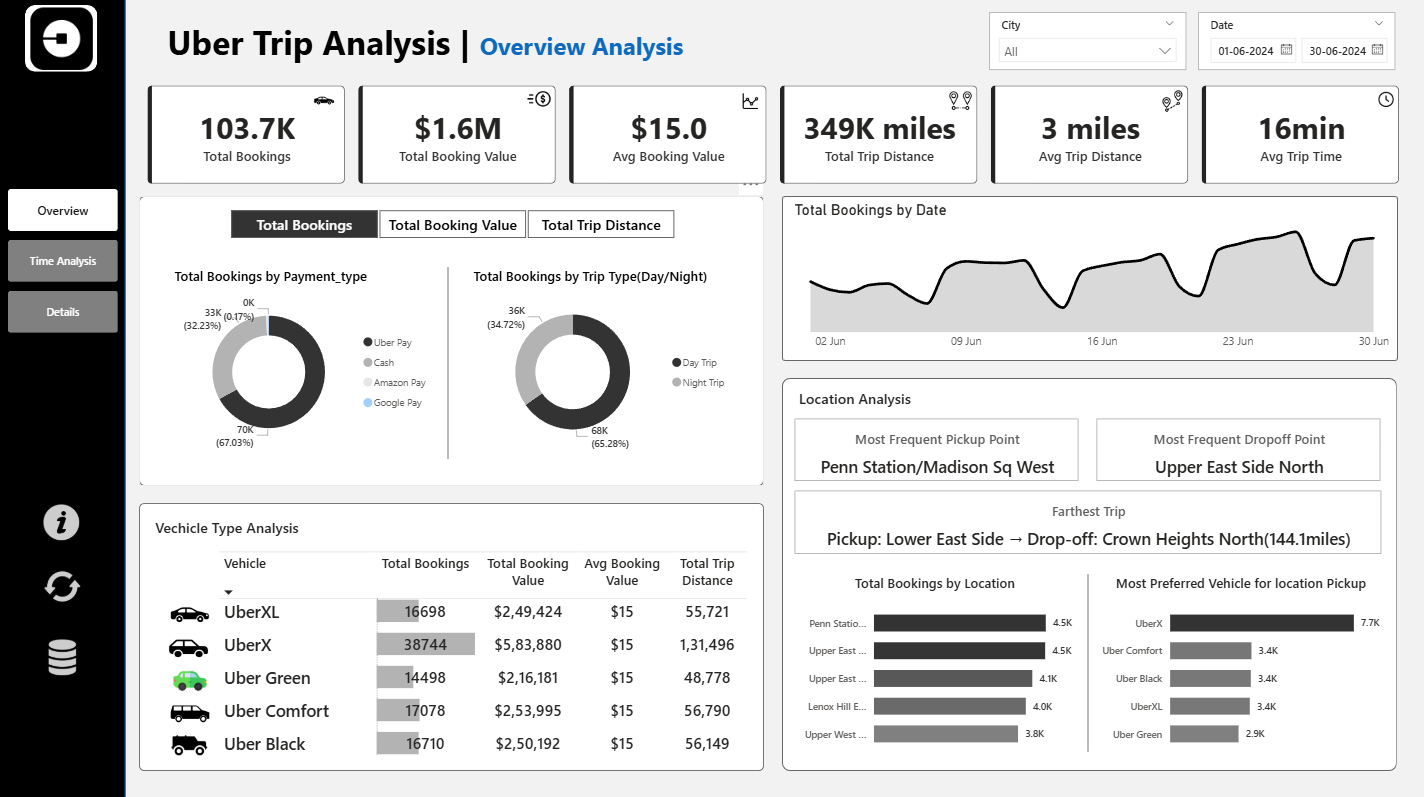

Layout of this report page (visuals, bound fields, positions):
{"tool":"powerbi","page":{"name":"Overview ","canvas":[1600,900],"ordinal":0},"visuals":[{"type":"shape","box":[0,0,142.7,900.4],"z":0},{"type":"shape","box":[157.8,221.6,699.6,324.6],"z":2000},{"type":"textbox","box":[184.7,19,596.6,73.9],"z":3000},{"type":"cardVisual","fields":{"Data":["Calculation Table.Total Bookings","Calculation Table.Total Booking Amount","Calculation Table.Avg Booking Amount","Calculation Table.Total Trip Distance","Calculation Table.Avg Trip Distance","Calculation Table.Avg Trip Time"]},"box":[162,93,1415,120],"z":4000},{"type":"image","box":[587.2,92.4,36.5,40.1],"z":5000},{"type":"shape","box":[30.6,7.9,81,74.7],"z":5250,"group":"g1"},{"type":"image","box":[30,6,82,80],"z":5500,"group":"g1"},{"type":"image","box":[1059,97.3,36.5,35.3],"z":6000},{"type":"image","box":[1298.5,97.3,34,35.3],"z":7000},{"type":"image","box":[1540.4,93.6,26.7,38.9],"z":8000},{"type":"image","box":[826.7,97.3,30.4,35.3],"z":9000},{"type":"image","box":[342.9,97.3,45,35.3],"z":10000},{"type":"slicer","fields":{"Values":["Dynamic Measure.Dynamic Measure"]},"box":[235.1,230.6,546.3,41.4],"z":11000},{"type":"donutChart","fields":{"Y":["Calculation Table.Total Bookings"],"Category":["Trip Details.Payment_type"]},"box":[192.5,301.1,300,214.9],"z":12000},{"type":"donutChart","fields":{"Y":["Calculation Table.Total Bookings"],"Category":["Trip Details.Trip Type(Day/Night)"]},"box":[527.2,301.1,300,214.9],"z":13000},{"type":"shape","box":[157.8,565.3,699.6,300],"z":14000},{"type":"pivotTable","fields":{"Rows":["Trip Details.Vehicle"],"Values":["Calculation Table.Total Bookings","Calculation Table.Total Booking Value","Calculation Table.Avg Booking Value","Calculation Table.Total Trip Distance Numeric"]},"box":[242.9,615,610.1,245.1],"z":15000},{"type":"image","box":[186,661,58.2,59.3],"z":16000},{"type":"image","box":[186,698,55,59.3],"z":17000},{"type":"image","box":[191,741,47,47],"z":18000},{"type":"image","box":[186,771,58.2,59.3],"z":19000},{"type":"image","box":[189,812,50.4,50.4],"z":20000},{"type":"card","fields":{"Values":["Calculation Table.Title for Grid"]},"box":[162.3,575,188,39.2],"z":21000},{"type":"shape","box":[877.6,221.6,689.6,184.7],"z":22000},{"type":"areaChart","fields":{"Y":["Calculation Table.Total Bookings"],"Category":["Calender Table.Date Hierarchy.Date","Calender Table.Date Hierarchy.Year","Calender Table.Date Hierarchy.Month","Calender Table.Date Hierarchy.Day"]},"box":[886.6,227.2,676.1,175.7],"z":23000},{"type":"shape","box":[877.6,425.4,688.4,439.9],"z":24000},{"type":"cardVisual","fields":{"Data":["Calculation Table.Most Frequent Pickup Point","Calculation Table.Most Frequent Dropoff Point"]},"box":[886.6,465.7,667.2,80.6],"z":25000},{"type":"cardVisual","fields":{"Data":["Calculation Table.Farthest Trip"]},"box":[886.6,546.3,667.2,81.7],"z":26000},{"type":"barChart","fields":{"Category":["Location Table.Location"],"Y":["Calculation Table.Total Bookings"]},"box":[886.6,644.8,324.6,207.1],"z":27000},{"type":"barChart","title":"Most Preferred Vehicle for location Pickup","fields":{"Y":["CountNonNull(Trip Details.PULocationID)"],"Category":["Trip Details.Vehicle"]},"box":[1229.1,644.8,324.6,207.1],"z":28000},{"type":"shape","box":[492.5,301.1,22.4,214.9],"z":29000},{"type":"shape","box":[1209,644.8,22.4,199.3],"z":30000},{"type":"card","fields":{"Values":["Calculation Table.Title for Location"]},"box":[888.8,436.6,141,25.7],"z":31000},{"type":"image","box":[45.7,562.4,49.9,49.9],"z":31500,"group":"g2"},{"type":"slicer","fields":{"Values":["Calender Table.Date"]},"box":[1343.3,16,221,65],"z":32000},{"type":"slicer","fields":{"Values":["Location Table.City"]},"box":[1109.3,16,220.5,65],"z":33000},{"type":"pageNavigator","box":[11,213.2,123,163],"z":35000},{"type":"group","id":"g1","title":"logo","box":[30,6,82,80],"z":36000},{"type":"image","box":[47.1,626.1,49.9,65.1],"z":37000},{"type":"image","box":[47.5,712.9,49.8,49.8],"z":38000},{"type":"card","fields":{"Values":["Calculation Table.Blank"]},"box":[45.7,562.4,51.3,51.3],"z":38500,"group":"g2"},{"type":"group","id":"g2","title":"Group 1","box":[45.7,562.4,51.3,51.3],"z":38501}]}

Visuals, with their boxes on the page's 1600x900 design canvas (x1, y1, x2, y2). These are canvas units, not pixel positions in the 1424x797 screenshot, which may show the page scaled, cropped or inside an application window:
shape: region(0, 0, 143, 900)
shape: region(158, 222, 857, 546)
textbox: region(185, 19, 781, 93)
cardVisual - Calculation Table.Total Bookings x Calculation Table.Total Booking Amount: region(162, 93, 1577, 213)
image: region(587, 92, 624, 132)
shape: region(31, 8, 112, 83)
image: region(30, 6, 112, 86)
image: region(1059, 97, 1096, 133)
image: region(1298, 97, 1332, 133)
image: region(1540, 94, 1567, 132)
image: region(827, 97, 857, 133)
image: region(343, 97, 388, 133)
slicer - Dynamic Measure.Dynamic Measure: region(235, 231, 781, 272)
donutChart - Calculation Table.Total Bookings x Trip Details.Payment_type: region(192, 301, 492, 516)
donutChart - Calculation Table.Total Bookings x Trip Details.Trip Type(Day/Night): region(527, 301, 827, 516)
shape: region(158, 565, 857, 865)
pivotTable - Trip Details.Vehicle x Calculation Table.Total Bookings: region(243, 615, 853, 860)
image: region(186, 661, 244, 720)
image: region(186, 698, 241, 757)
image: region(191, 741, 238, 788)
image: region(186, 771, 244, 830)
image: region(189, 812, 239, 862)
card - Calculation Table.Title for Grid: region(162, 575, 350, 614)
shape: region(878, 222, 1567, 406)
areaChart - Calculation Table.Total Bookings x Calender Table.Date Hierarchy.Date: region(887, 227, 1563, 403)
shape: region(878, 425, 1566, 865)
cardVisual - Calculation Table.Most Frequent Pickup Point x Calculation Table.Most Frequent Dropoff Point: region(887, 466, 1554, 546)
cardVisual - Calculation Table.Farthest Trip: region(887, 546, 1554, 628)
barChart - Location Table.Location x Calculation Table.Total Bookings: region(887, 645, 1211, 852)
"Most Preferred Vehicle for location Pickup" barChart: region(1229, 645, 1554, 852)
shape: region(492, 301, 515, 516)
shape: region(1209, 645, 1231, 844)
card - Calculation Table.Title for Location: region(889, 437, 1030, 462)
image: region(46, 562, 96, 612)
slicer - Calender Table.Date: region(1343, 16, 1564, 81)
slicer - Location Table.City: region(1109, 16, 1330, 81)
pageNavigator: region(11, 213, 134, 376)
"logo" group: region(30, 6, 112, 86)
image: region(47, 626, 97, 691)
image: region(48, 713, 97, 763)
card - Calculation Table.Blank: region(46, 562, 97, 614)
"Group 1" group: region(46, 562, 97, 614)
